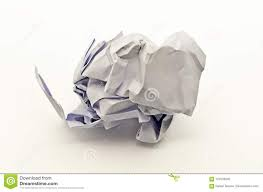crumpled paper: (32, 29, 212, 152)
